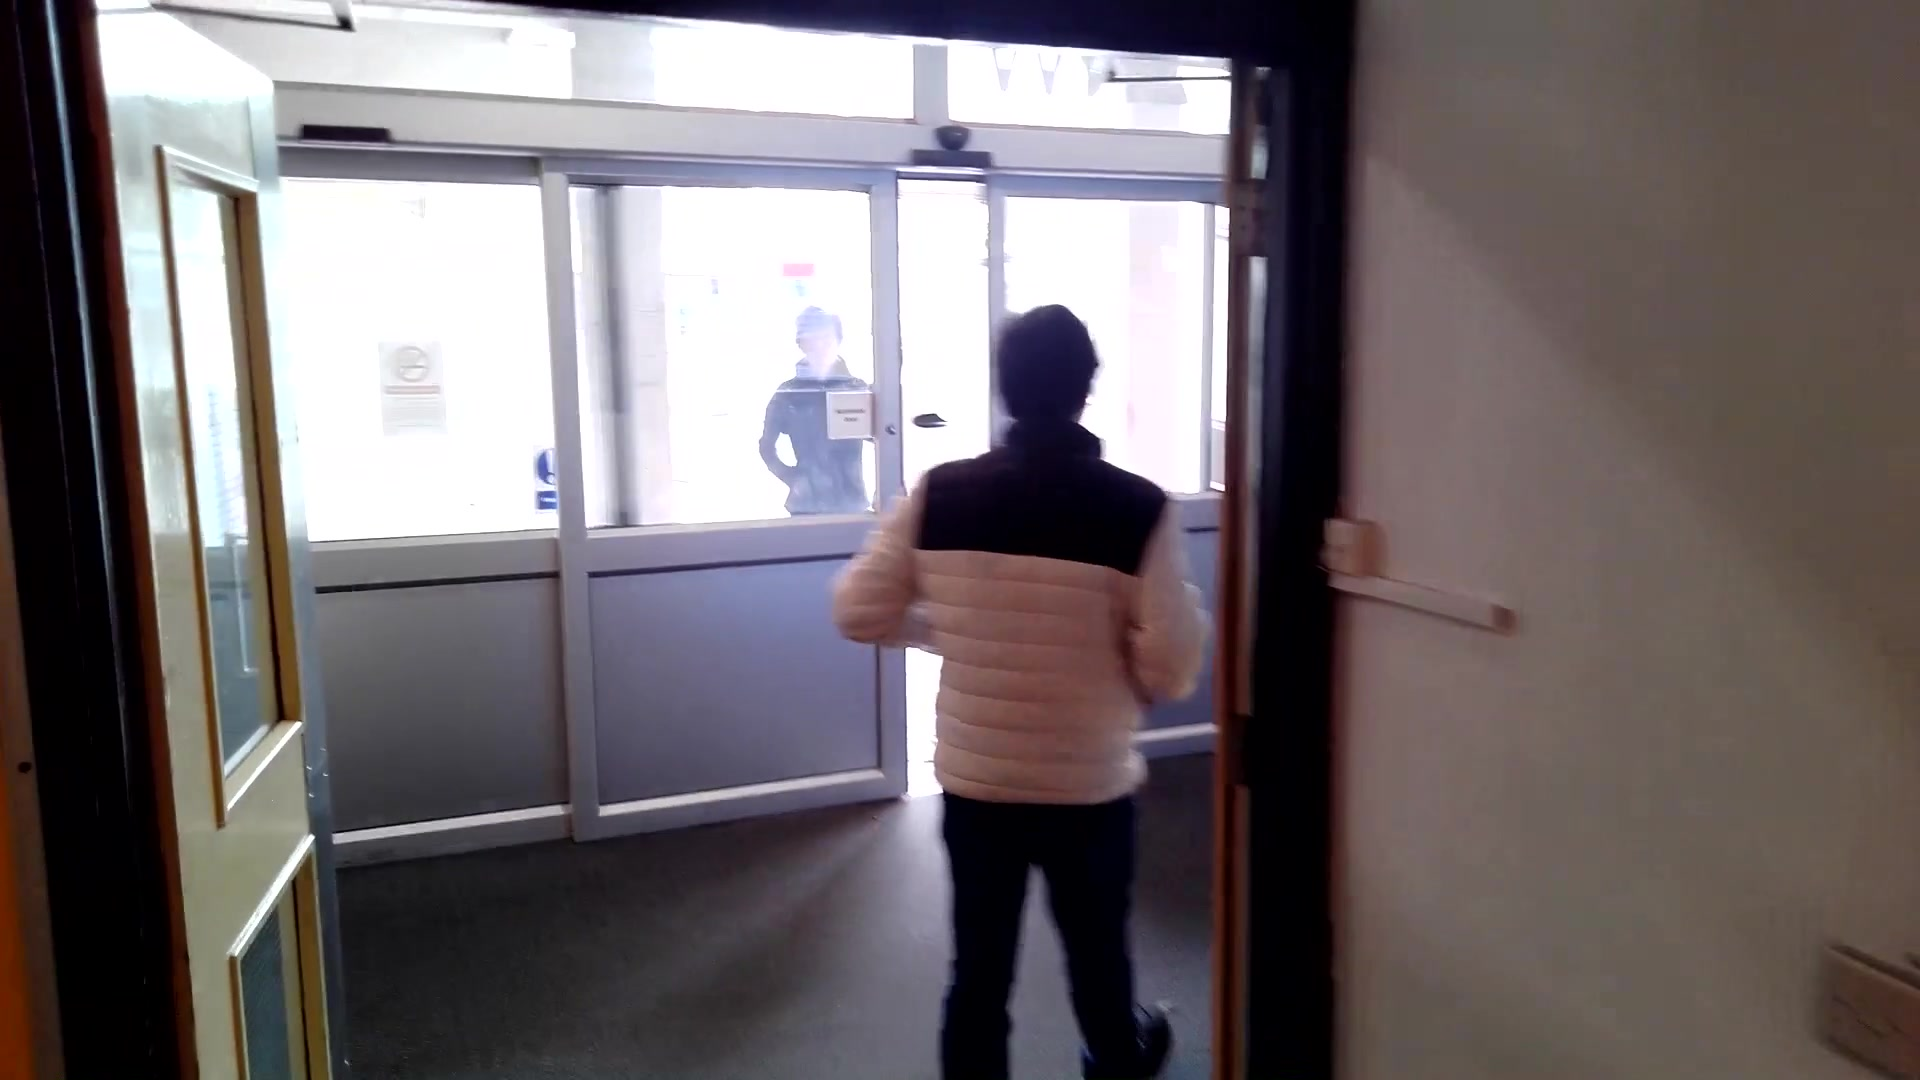Person: (936, 303, 1184, 1080)
